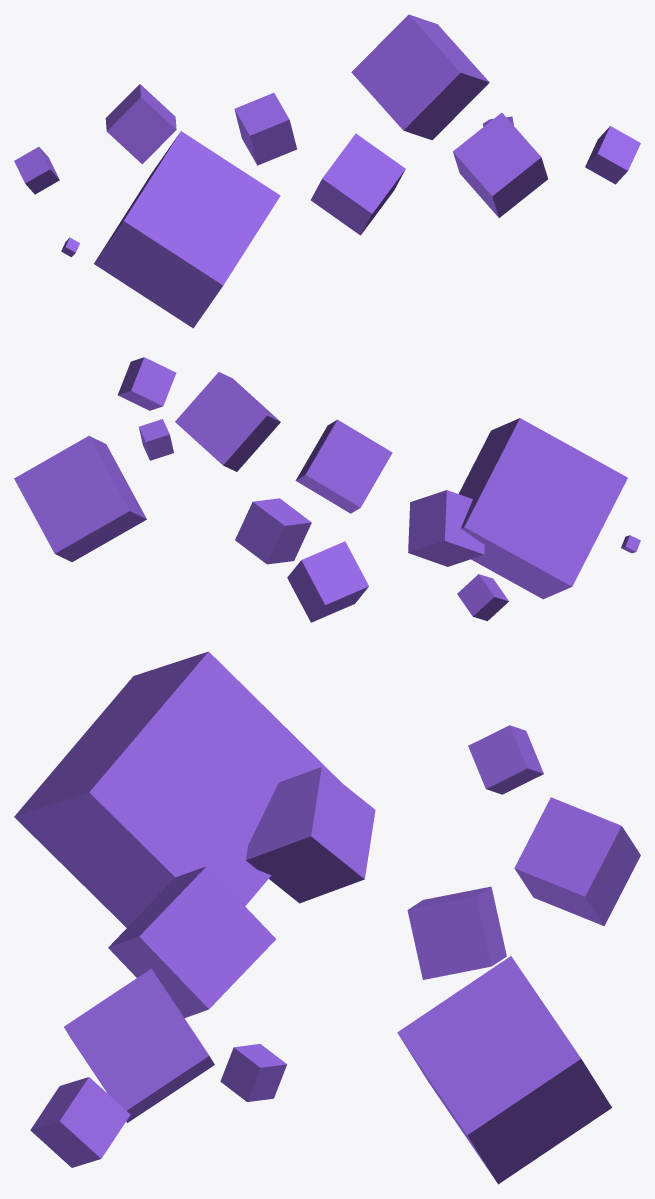
Rendered from cubes.gltf.
3 renders of one model, top to bottom at view 1: azimuth 30°, elevation 25°; view 2: azimuth 150°, elevation 25°; view 3: azimuth 270°, elevation 25°, orthographic. The views are drawn at different scales.
Visible parts, largest first — view 1: Cube, Cube.003, Cube.005, Cube.006, Cube.010, Cube.002, Cube.007, Cube.009; view 2: Cube, Cube.003, Cube.005, Cube.006, Cube.001, Cube.010, Cube.002, Cube.007, Cube.009, Cube.004; view 3: Cube, Cube.003, Cube.006, Cube.005, Cube.001, Cube.010, Cube.002, Cube.007, Cube.009, Cube.004.
Part boxes in pixels (x1,y1,x2,y2): Cube: [94, 131, 280, 328]; Cube.003: [351, 14, 489, 140]; Cube.005: [453, 112, 547, 217]; Cube.006: [311, 133, 405, 235]; Cube.010: [105, 84, 176, 164]; Cube.002: [234, 93, 297, 165]; Cube.007: [585, 126, 640, 184]; Cube.009: [14, 146, 59, 194]; Cube: [458, 418, 627, 599]; Cube.003: [14, 436, 146, 561]; Cube.005: [175, 372, 280, 471]; Cube.006: [295, 419, 392, 513]; Cube.001: [408, 490, 484, 566]; Cube.010: [287, 541, 368, 622]; Cube.002: [235, 498, 311, 564]; Cube.007: [118, 357, 176, 410]; Cube.009: [457, 574, 508, 621]; Cube.004: [139, 419, 173, 460]; Cube: [14, 651, 341, 927]; Cube.003: [397, 956, 611, 1184]; Cube.006: [108, 866, 275, 1018]; Cube.005: [64, 968, 214, 1122]; Cube.001: [246, 767, 375, 903]; Cube.010: [514, 797, 640, 926]; Cube.002: [407, 886, 506, 979]; Cube.007: [30, 1077, 130, 1167]; Cube.009: [468, 725, 543, 794]; Cube.004: [220, 1044, 286, 1101].
Size of the model in its own units: 2.13 by 0.7047 by 1.31.
